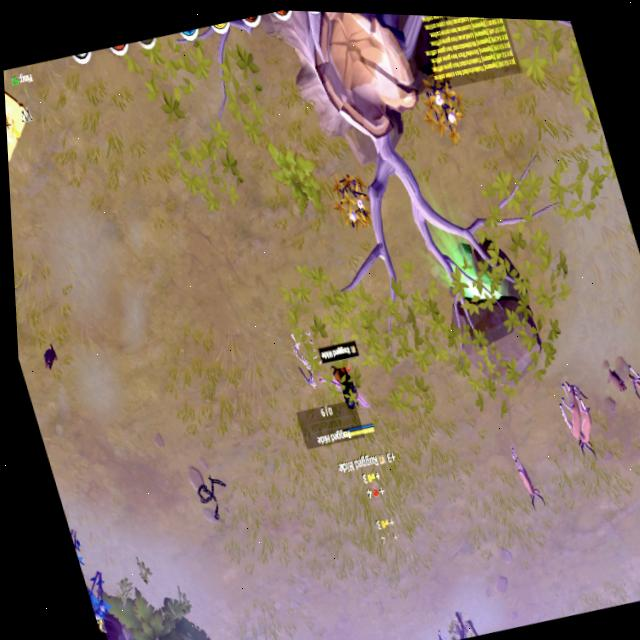hide: (408, 68, 476, 152), (325, 170, 384, 239), (80, 561, 122, 627), (68, 524, 96, 584)
ore: (548, 375, 608, 464), (504, 436, 552, 519), (619, 351, 640, 421)
red: (318, 343, 384, 449)
